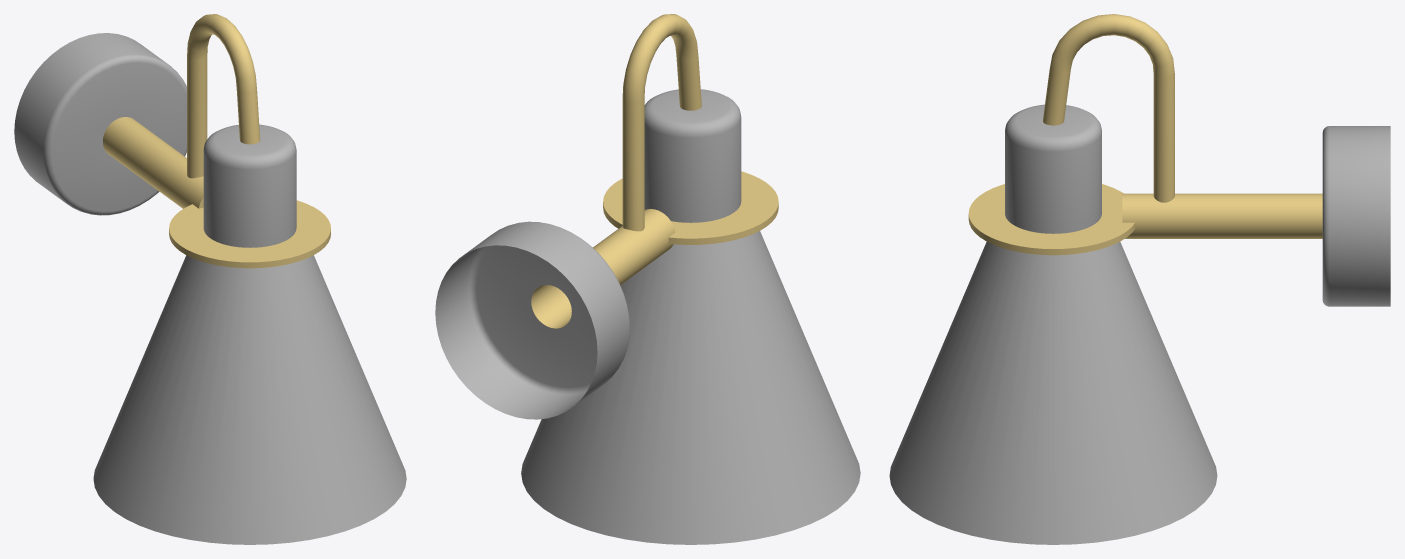
File: lamp2.glb
3 views of the same model, side by side, from view 1: azimuth 30°, elevation 25°; view 2: azimuth 150°, elevation 25°; view 3: azimuth 270°, elevation 25° (orthographic). The views are drawn at different scales.
Visible parts, largest first — view 1: argon_4704; view 2: argon_4704; view 3: argon_4704.
Boxes of the visible parts, x1=… form: argon_4704: x1=14, y1=14, x2=406, y2=544; argon_4704: x1=435, y1=14, x2=860, y2=544; argon_4704: x1=889, y1=14, x2=1390, y2=544.
Bounding box in the file's own units: 0.145 × 0.2247 × 0.2215.
